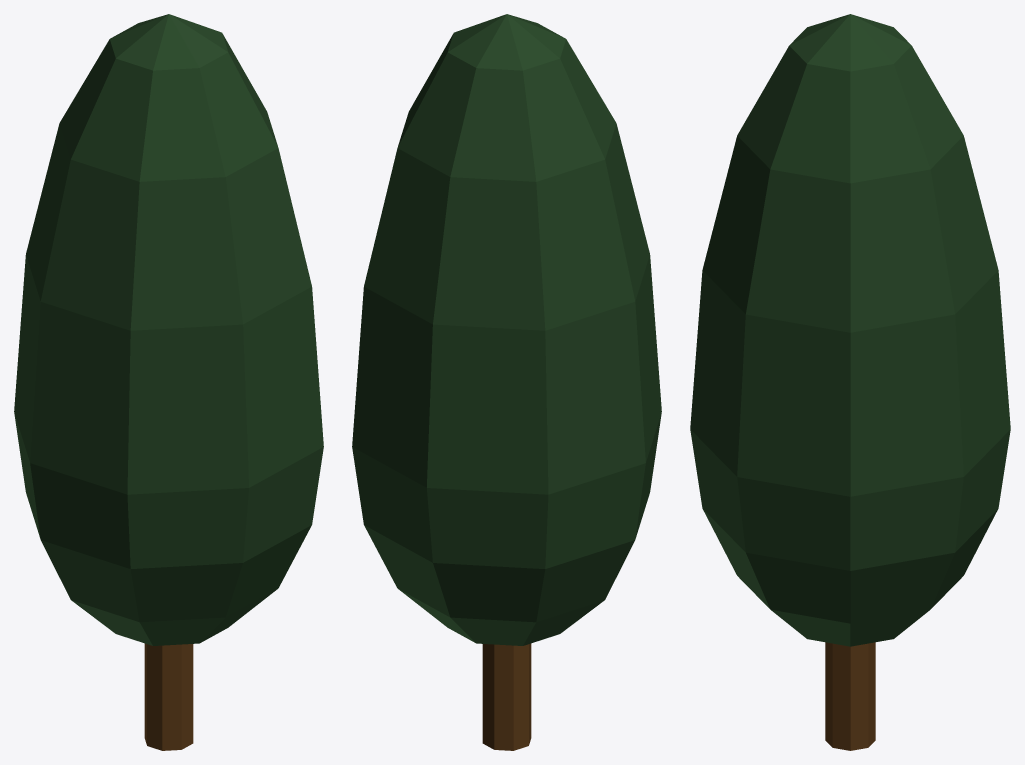
Rendered from Prop_Decorative_Tree_Cedar_2.obj.
3 views of the same model, side by side, from view 1: azimuth 30°, elevation 25°; view 2: azimuth 150°, elevation 25°; view 3: azimuth 270°, elevation 25° (orthographic).
Parts seen in each view (by area): view 1: Leaves, Trunk; view 2: Leaves, Trunk; view 3: Leaves, Trunk.
Boxes of the visible parts, box(x1,y1,x2,y2) form: Leaves: box(14, 14, 323, 645); Trunk: box(144, 643, 193, 750); Leaves: box(352, 14, 661, 645); Trunk: box(482, 643, 531, 750); Leaves: box(690, 14, 1010, 646); Trunk: box(825, 642, 875, 750).
Bounding box in the file's own units: 1 × 2.5 × 1.
